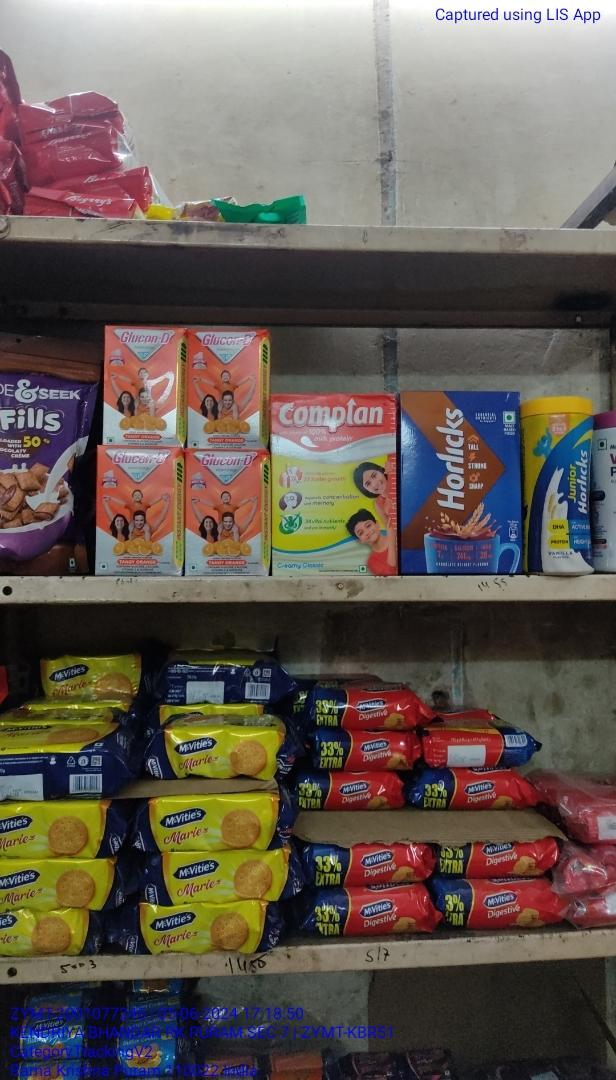COMPLAN_CHOCOLATE_500_GMS_PACK: (403, 392, 515, 574)
COMPLAN_CREAMY_CLASSIC_500_G_PACK: (270, 393, 399, 575)
HORLICKS_JUNIOR_VANILLA_500_GM_JAR: (522, 394, 594, 580)
